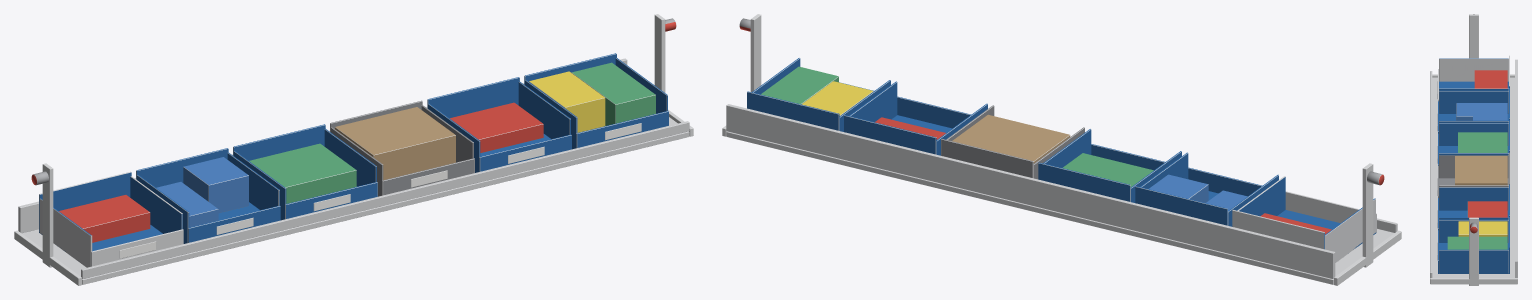
Rendered from carousel_vtray_v1.fbx.
The picture shows the model from 3 angles, left to right: view 1: azimuth 30°, elevation 25°; view 2: azimuth 150°, elevation 25°; view 3: azimuth 270°, elevation 25°; orthographic projection. The views are drawn at different scales.
Parts seen in each view (by area): view 1: VTray_v1; view 2: VTray_v1; view 3: VTray_v1.
Part boxes in pixels (x1,y1,x2,y2): VTray_v1: (14, 14, 693, 285); VTray_v1: (722, 14, 1401, 285); VTray_v1: (1430, 14, 1517, 285).
Size of the model in its own units: 2.58 by 0.38 by 0.45.
